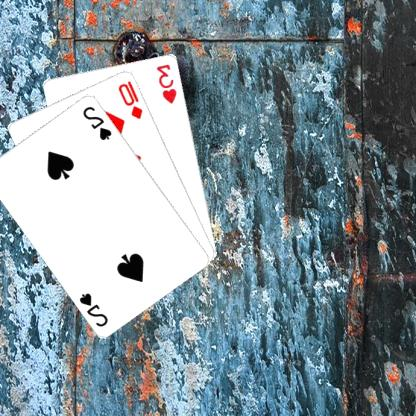10D: (117, 78, 146, 120)
2S: (78, 289, 112, 328), (82, 103, 115, 142)
3H: (156, 62, 180, 104)
